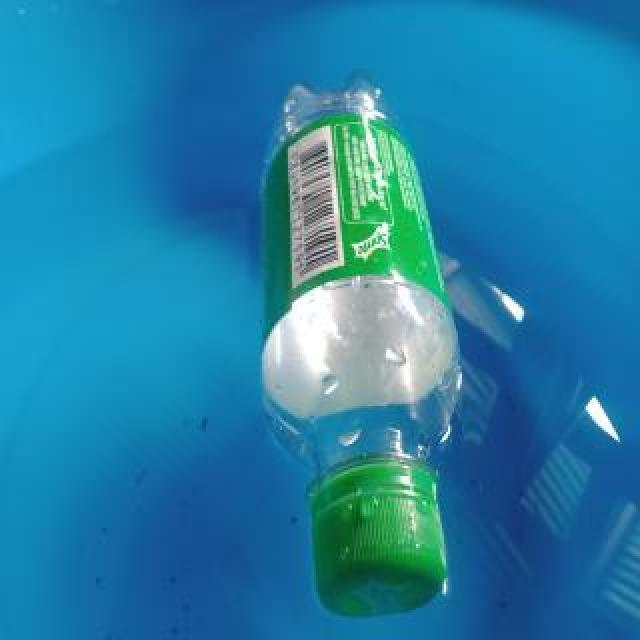bottle: (257, 65, 461, 621)
